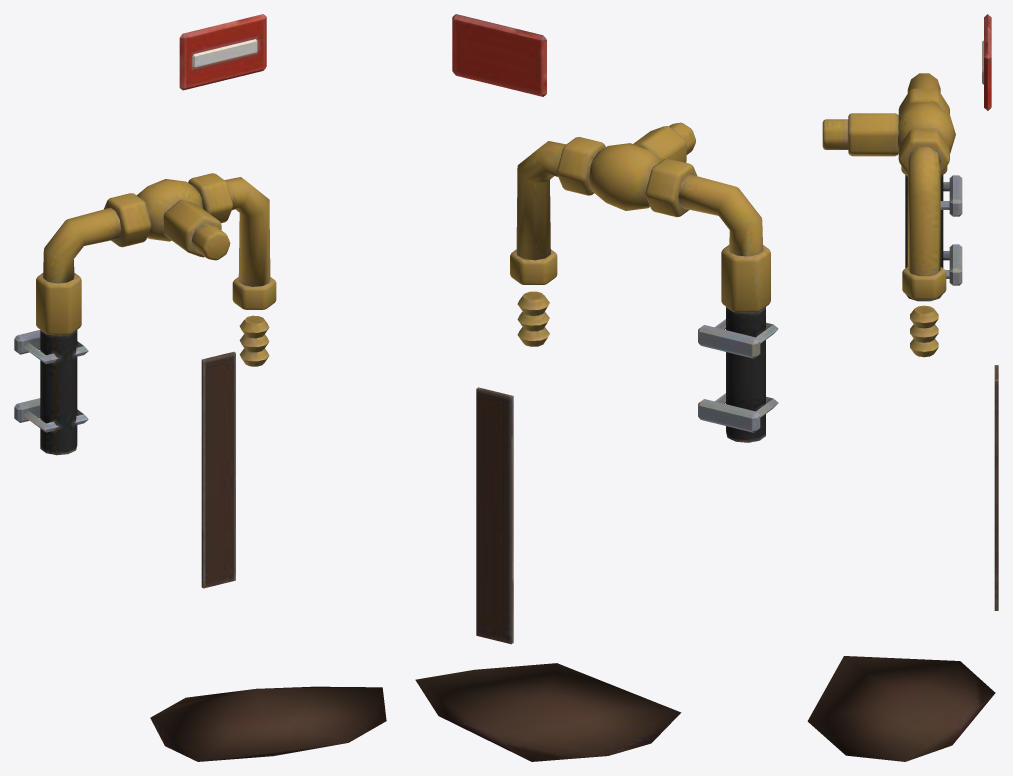
File: valve.glb
The picture shows the model from 3 angles, left to right: view 1: azimuth 30°, elevation 25°; view 2: azimuth 150°, elevation 25°; view 3: azimuth 270°, elevation 25°; orthographic projection. The views are drawn at different scales.
Visible parts, largest first — view 1: valve; view 2: valve; view 3: valve.
Part boxes in pixels (bbox=[...]): valve: bbox=[14, 14, 386, 761]; valve: bbox=[415, 14, 778, 761]; valve: bbox=[807, 14, 998, 761].
Bounding box in the file's own units: 0.6283 × 1.18 × 0.3012.
1 material, 1 textured.
